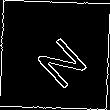N_NW: (24, 23, 86, 87)
